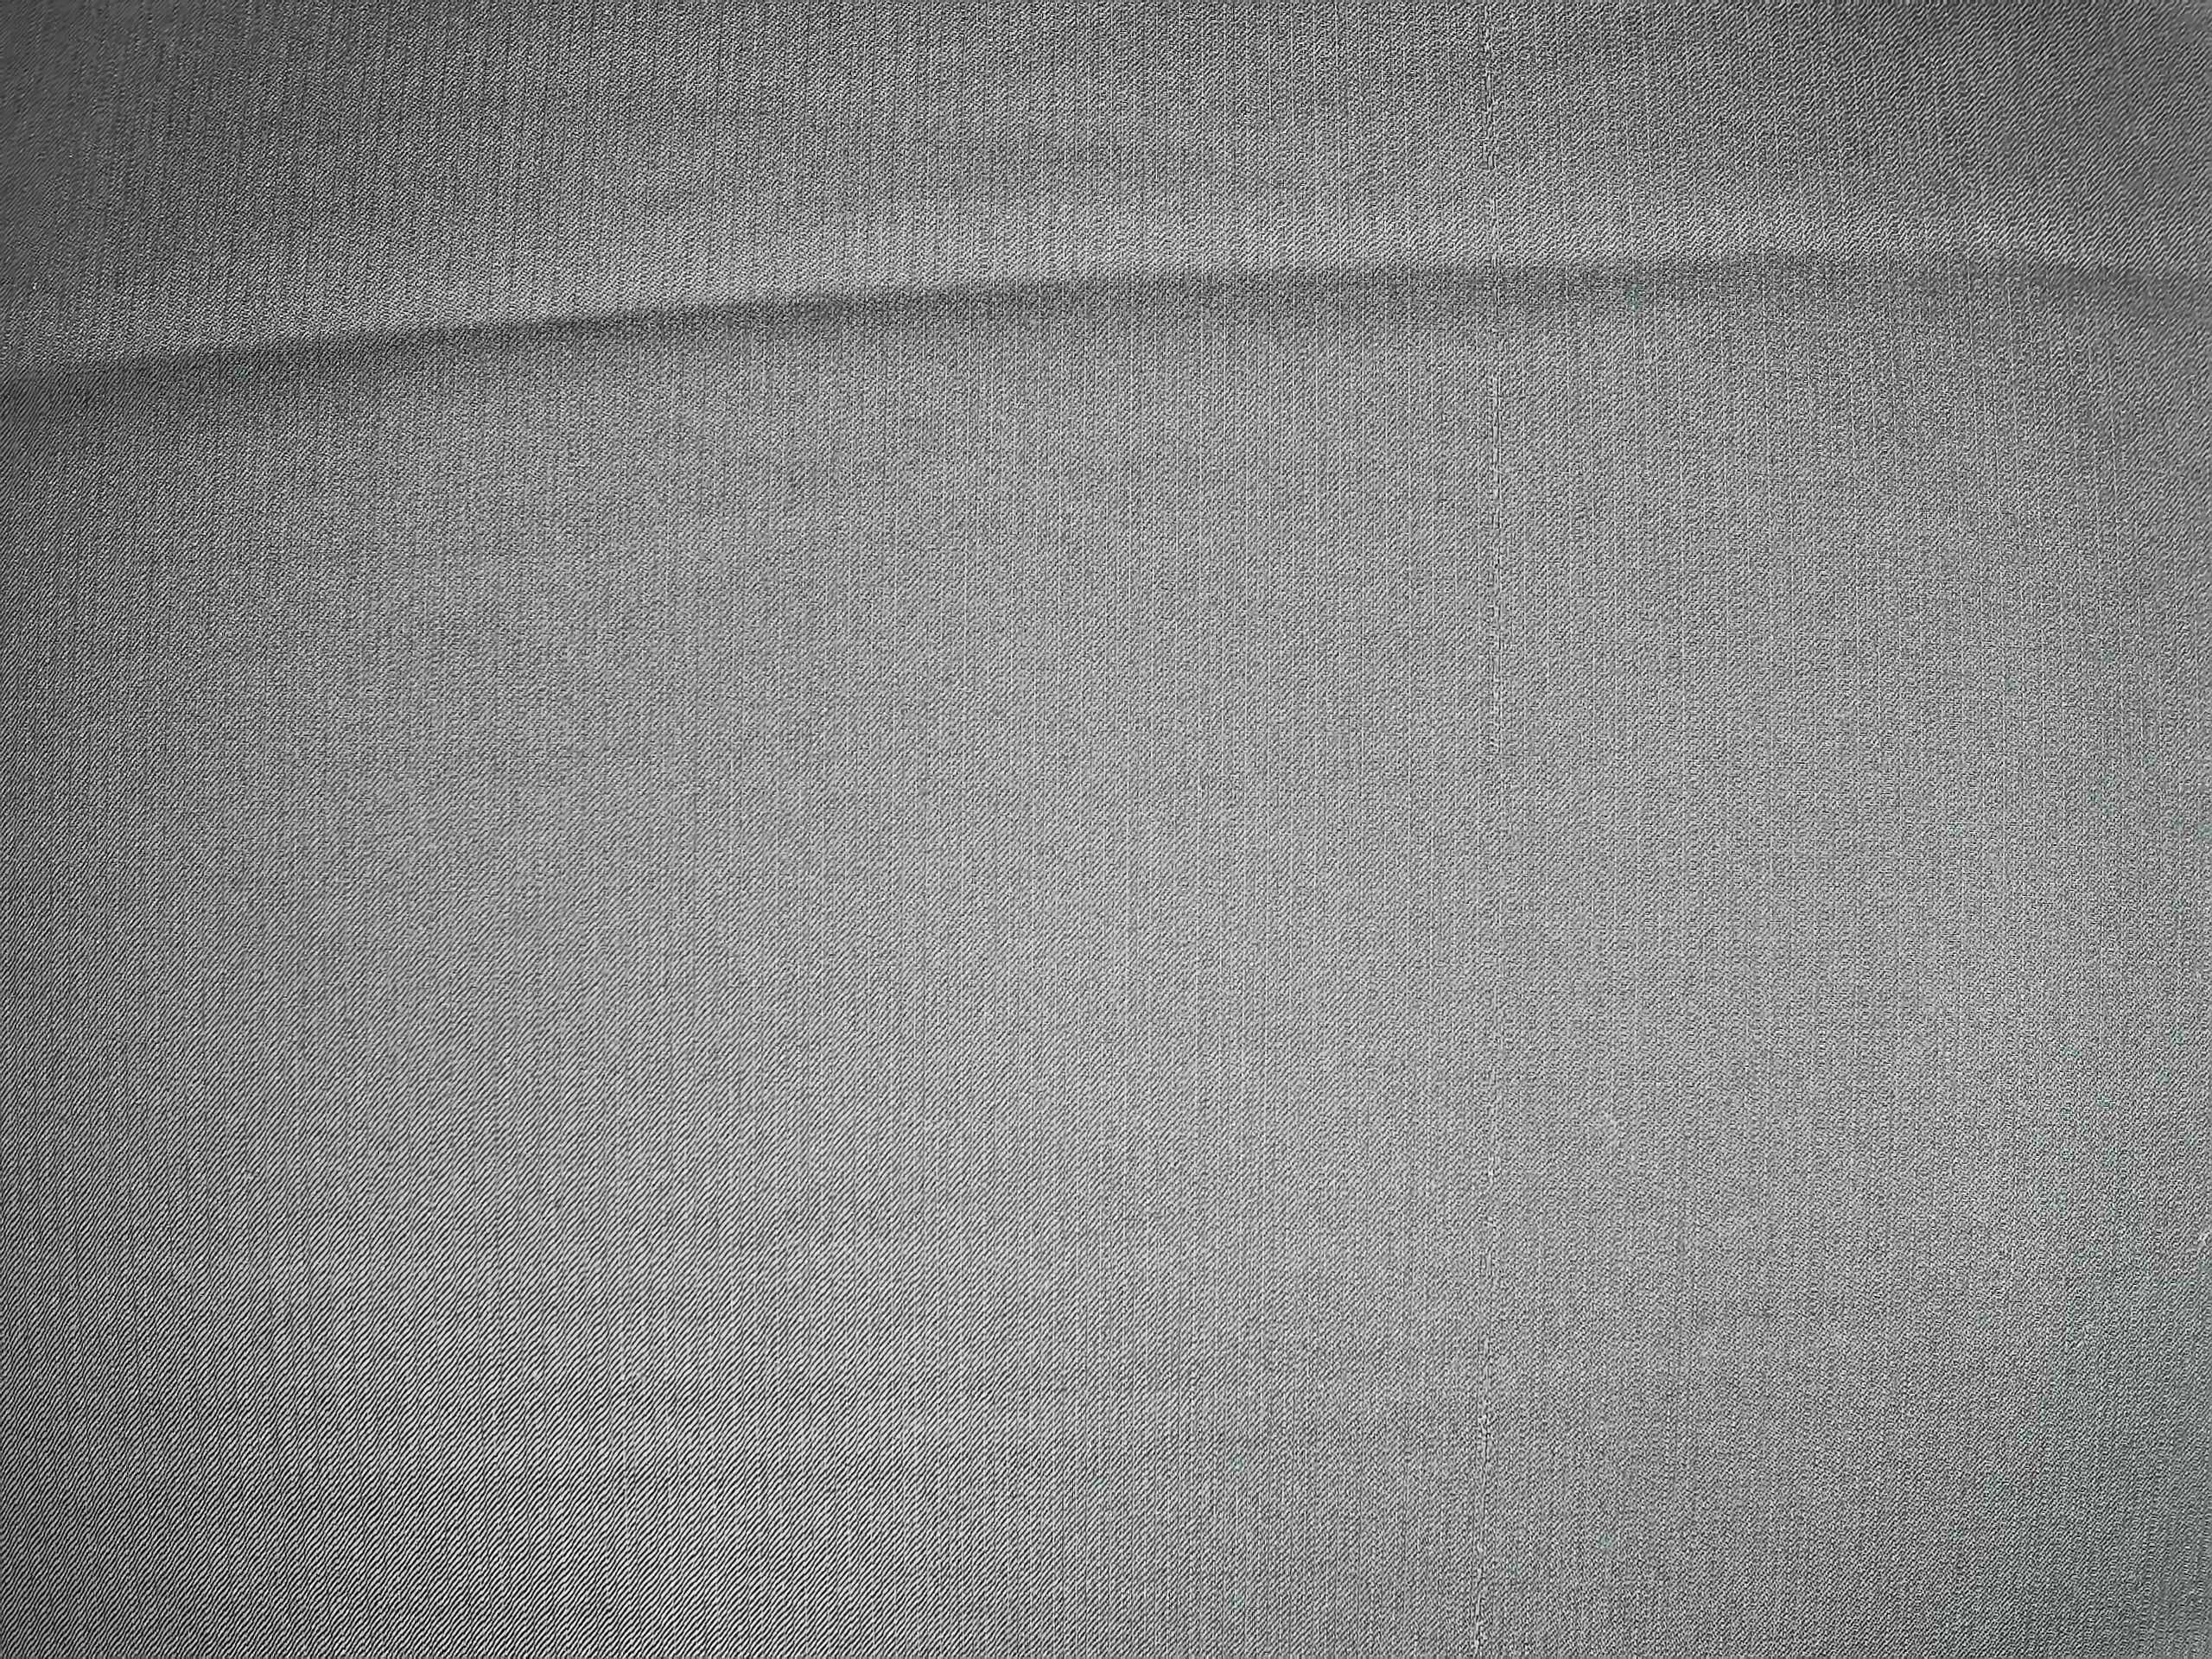jumps: (1468, 7, 1517, 1653)
